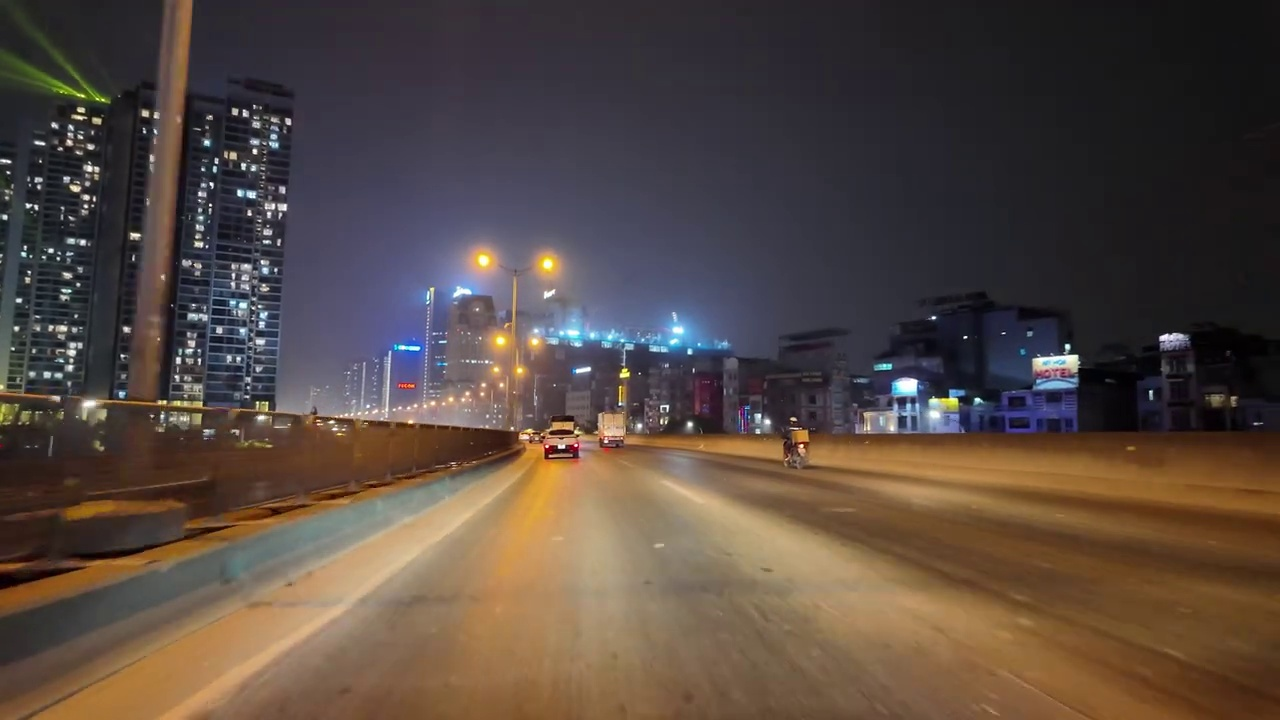acesa: (532, 251, 562, 279), (468, 246, 498, 273), (489, 330, 513, 353)
